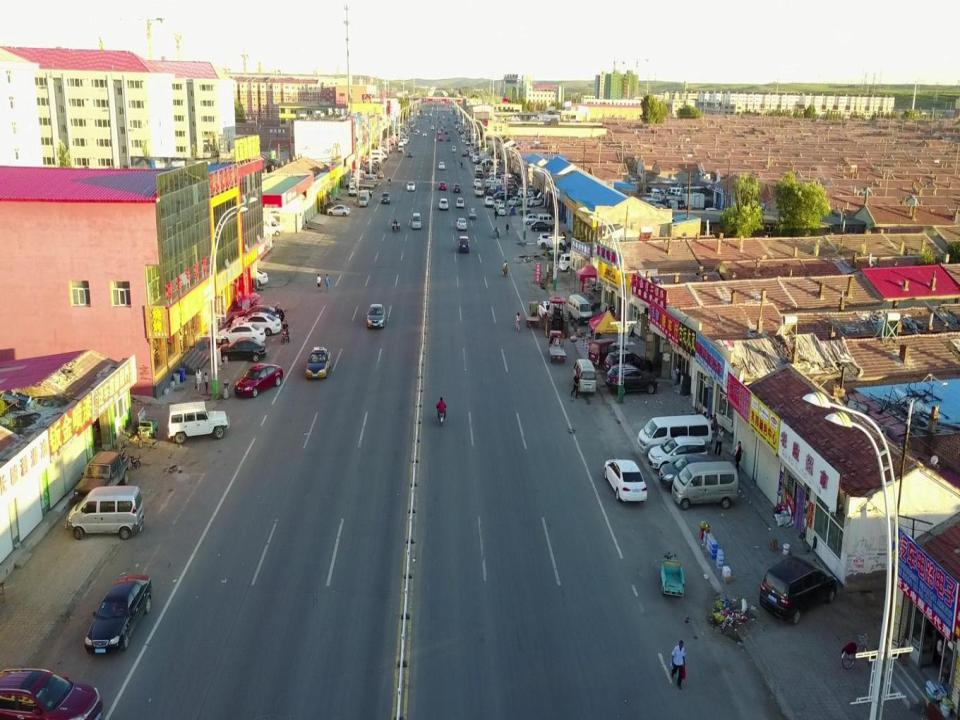car: (84, 573, 152, 653), (0, 667, 102, 719), (759, 557, 836, 623), (74, 449, 131, 504), (659, 455, 716, 493), (648, 436, 709, 470), (604, 458, 647, 502), (234, 363, 283, 398), (605, 364, 658, 394), (230, 312, 282, 336), (215, 336, 267, 360), (604, 351, 652, 375), (216, 322, 265, 345), (232, 305, 283, 325), (306, 346, 330, 378), (232, 267, 268, 286), (539, 299, 558, 326), (537, 233, 566, 250), (366, 304, 386, 328), (559, 254, 583, 271), (326, 205, 351, 217), (531, 220, 553, 232), (522, 213, 540, 224), (458, 236, 469, 253), (526, 196, 543, 207), (484, 176, 500, 187), (509, 196, 523, 207), (456, 218, 467, 230), (380, 192, 390, 204), (438, 198, 448, 210), (494, 198, 505, 208), (484, 196, 494, 206), (497, 204, 505, 216), (456, 198, 464, 208), (473, 155, 483, 163), (527, 187, 535, 197), (348, 186, 356, 195), (453, 183, 460, 193), (518, 187, 525, 197), (379, 148, 392, 153), (407, 182, 415, 190), (474, 179, 482, 187), (398, 141, 403, 153), (438, 161, 445, 169), (377, 172, 384, 179), (439, 182, 446, 189), (382, 146, 392, 150), (462, 150, 467, 156), (407, 151, 412, 156), (469, 152, 474, 157)
truck: (645, 198, 667, 225), (676, 186, 706, 202), (674, 194, 704, 210), (349, 177, 377, 189), (474, 165, 484, 177), (474, 185, 484, 197)
van: (66, 485, 144, 539), (672, 461, 738, 510), (637, 414, 712, 456), (168, 401, 229, 444), (587, 338, 621, 364), (572, 358, 596, 393), (566, 295, 594, 324), (253, 216, 282, 236), (537, 214, 556, 226), (357, 188, 369, 206), (369, 149, 387, 159), (502, 177, 518, 188), (669, 186, 684, 197), (412, 212, 421, 228), (667, 200, 678, 211), (651, 188, 659, 197), (452, 146, 455, 151)
